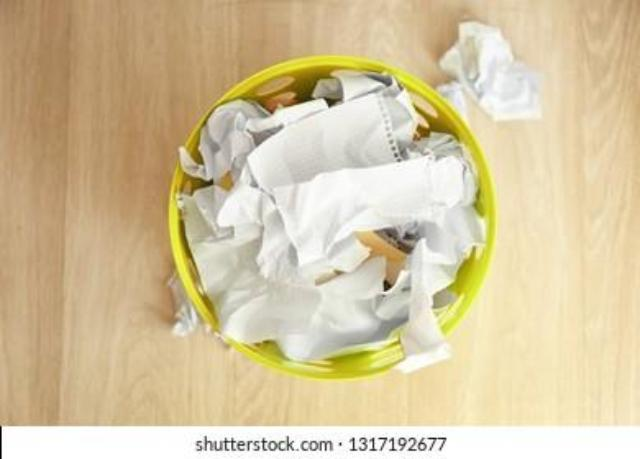Garbage: (150, 15, 550, 380)
Paper: (177, 70, 485, 372), (439, 24, 541, 119)
